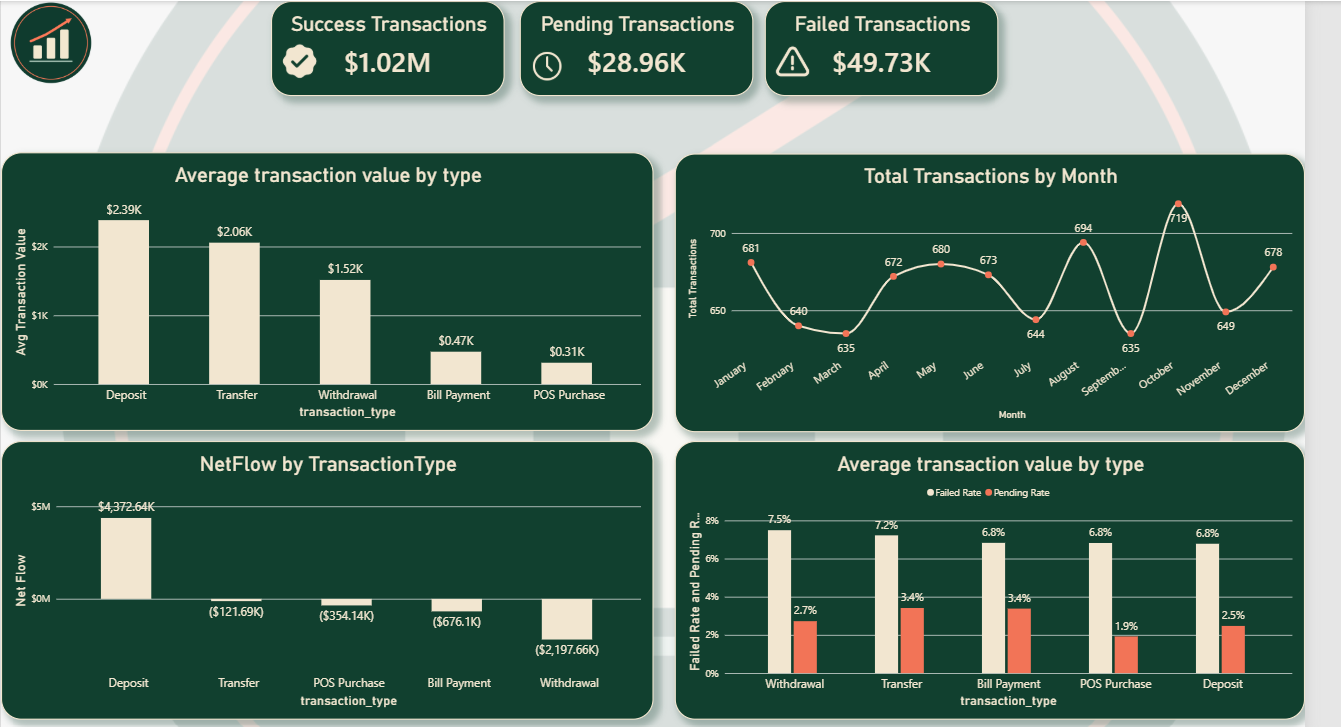

The page's visual inventory and layout, read from the dashboard file:
{"tool":"powerbi","page":{"name":"Revenue and transactions performance","canvas":[1920,1080],"ordinal":2},"visuals":[{"type":"clusteredColumnChart","title":"NetFlow by TransactionType ","fields":{"Category":["fact_transactions.transaction_type"],"Y":["\"Measures\".Net Flow"]},"box":[0,647.9,960.7,410.4],"z":0},{"type":"clusteredColumnChart","title":"Average transaction value by type","fields":{"Category":["fact_transactions.transaction_type"],"Y":["\"Measures\".Avg Transaction Value1"]},"box":[0,222.7,960.7,410.4],"z":1000},{"type":"image","box":[0,0,147.2,123.3],"z":2000},{"type":"lineChart","fields":{"Category":["fact_transactions.transaction_date.Variation.Date Hierarchy.Month"],"Y":["\"Measures\".Total Transactions1"]},"box":[992,224.5,927.6,410.4],"z":3000},{"type":"clusteredColumnChart","title":"Average transaction value by type","fields":{"Category":["fact_transactions.transaction_type"],"Y":["\"Measures\".Failed Rate","\"Measures\".Pending Rate1"]},"box":[992,647.9,927.6,410.4],"z":4000},{"type":"card","title":"Failed Transactions","fields":{"Values":["\"Measures\".Sum of Falied Transctions"]},"box":[1124.5,0,344,139.9],"z":5000},{"type":"image","box":[1124.5,62.6,81.6,52.5],"z":6000},{"type":"card","title":"Pending Transactions","fields":{"Values":["\"Measures\".Sum of Pending Transctions"]},"box":[763.8,0,344,139.9],"z":7000},{"type":"card","title":"Success Transactions","fields":{"Values":["\"Measures\".Sum of Success Transctions"]},"box":[397.5,0,344,139.9],"z":8000},{"type":"image","box":[399.4,62.6,81,52],"z":9000},{"type":"image","box":[763.8,69.9,81,52],"z":10000}]}

Visuals, with their boxes on the page's 1920x1080 design canvas (x1, y1, x2, y2). These are canvas units, not pixel positions in the 1341x727 screenshot, which may show the page scaled, cropped or inside an application window:
"NetFlow by TransactionType " clusteredColumnChart: <box>0,648,961,1058</box>
"Average transaction value by type" clusteredColumnChart: <box>0,223,961,633</box>
image: <box>0,0,147,123</box>
lineChart - fact_transactions.transaction_date.Variation.Date Hierarchy.Month x "Measures".Total Transactions1: <box>992,224,1920,635</box>
"Average transaction value by type" clusteredColumnChart: <box>992,648,1920,1058</box>
"Failed Transactions" card: <box>1124,0,1468,140</box>
image: <box>1124,63,1206,115</box>
"Pending Transactions" card: <box>764,0,1108,140</box>
"Success Transactions" card: <box>398,0,742,140</box>
image: <box>399,63,480,115</box>
image: <box>764,70,845,122</box>
